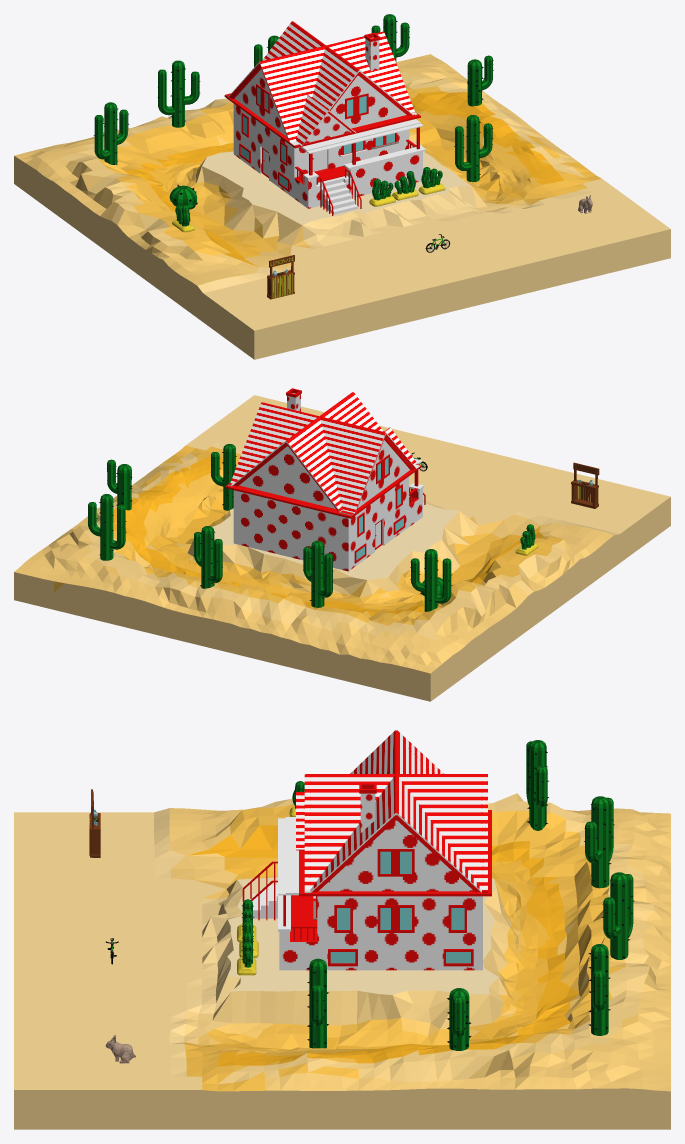
The picture shows the model from 3 angles, top to bottom: view 1: azimuth 30°, elevation 25°; view 2: azimuth 150°, elevation 25°; view 3: azimuth 270°, elevation 25°; orthographic projection. The views are drawn at different scales.
Parts seen in each view (by area): view 1: Cube.001, Cube.196, Cylinder.037, Cylinder.044, Cylinder.045, Cylinder.038, OBJRANDOM_LEMONADE_STAND, Cylinder.042, Cylinder.039, Cylinder.041, Sphere.023, Cylinder.040; view 2: Cube.001, Cube.196, Cylinder.042, Cylinder.045, Cylinder.044, Cylinder.043, Cylinder.037, OBJRANDOM_LEMONADE_STAND, Cylinder.038; view 3: Cube.001, Cube.196, Cylinder.043, Cylinder.044, Cylinder.045, Cylinder.042, Cylinder.037, Cylinder.038, Cylinder.041, OBJRANDOM_LEMONADE_STAND.
Boxes of the visible parts, bbox=[...] form: Cube.001: bbox=[14, 54, 670, 359]; Cube.196: bbox=[224, 21, 425, 215]; Cylinder.037: bbox=[454, 115, 493, 182]; Cylinder.044: bbox=[157, 60, 200, 127]; Cylinder.045: bbox=[93, 102, 129, 164]; Cylinder.038: bbox=[467, 55, 493, 106]; OBJRANDOM_LEMONADE_STAND: bbox=[267, 255, 294, 299]; Cylinder.042: bbox=[371, 14, 409, 62]; Cylinder.039: bbox=[369, 179, 395, 206]; Cylinder.041: bbox=[418, 167, 445, 194]; Sphere.023: bbox=[169, 184, 197, 209]; Cylinder.040: bbox=[392, 171, 418, 200]; Cube.001: bbox=[14, 395, 670, 701]; Cube.196: bbox=[225, 388, 425, 571]; Cylinder.042: bbox=[88, 494, 126, 560]; Cylinder.045: bbox=[410, 549, 452, 611]; Cylinder.044: bbox=[303, 540, 333, 607]; Cylinder.043: bbox=[193, 526, 222, 588]; Cylinder.037: bbox=[211, 444, 240, 510]; OBJRANDOM_LEMONADE_STAND: bbox=[571, 462, 599, 508]; Cylinder.038: bbox=[107, 459, 131, 510]; Cube.001: bbox=[14, 793, 670, 1129]; Cube.196: bbox=[242, 730, 491, 970]; Cylinder.043: bbox=[602, 872, 634, 959]; Cylinder.044: bbox=[584, 796, 614, 888]; Cylinder.045: bbox=[526, 740, 548, 830]; Cylinder.042: bbox=[588, 944, 610, 1035]; Cylinder.037: bbox=[307, 958, 328, 1048]; Cylinder.038: bbox=[447, 988, 471, 1050]; Cylinder.041: bbox=[237, 932, 256, 975]; OBJRANDOM_LEMONADE_STAND: bbox=[89, 789, 100, 857].
Size of the model in its own units: 4002 by 1605 by 4001.
Materials: 35 (3 with a texture image).
